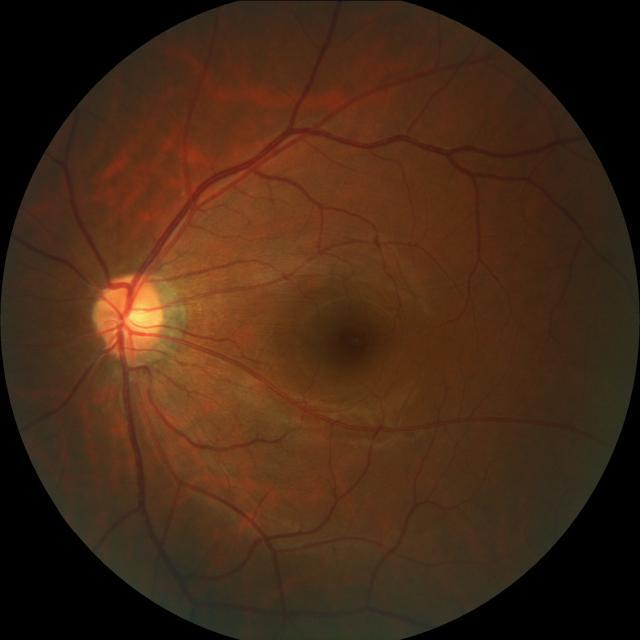OC: (125, 303, 152, 331)
OD: (96, 272, 167, 358)
